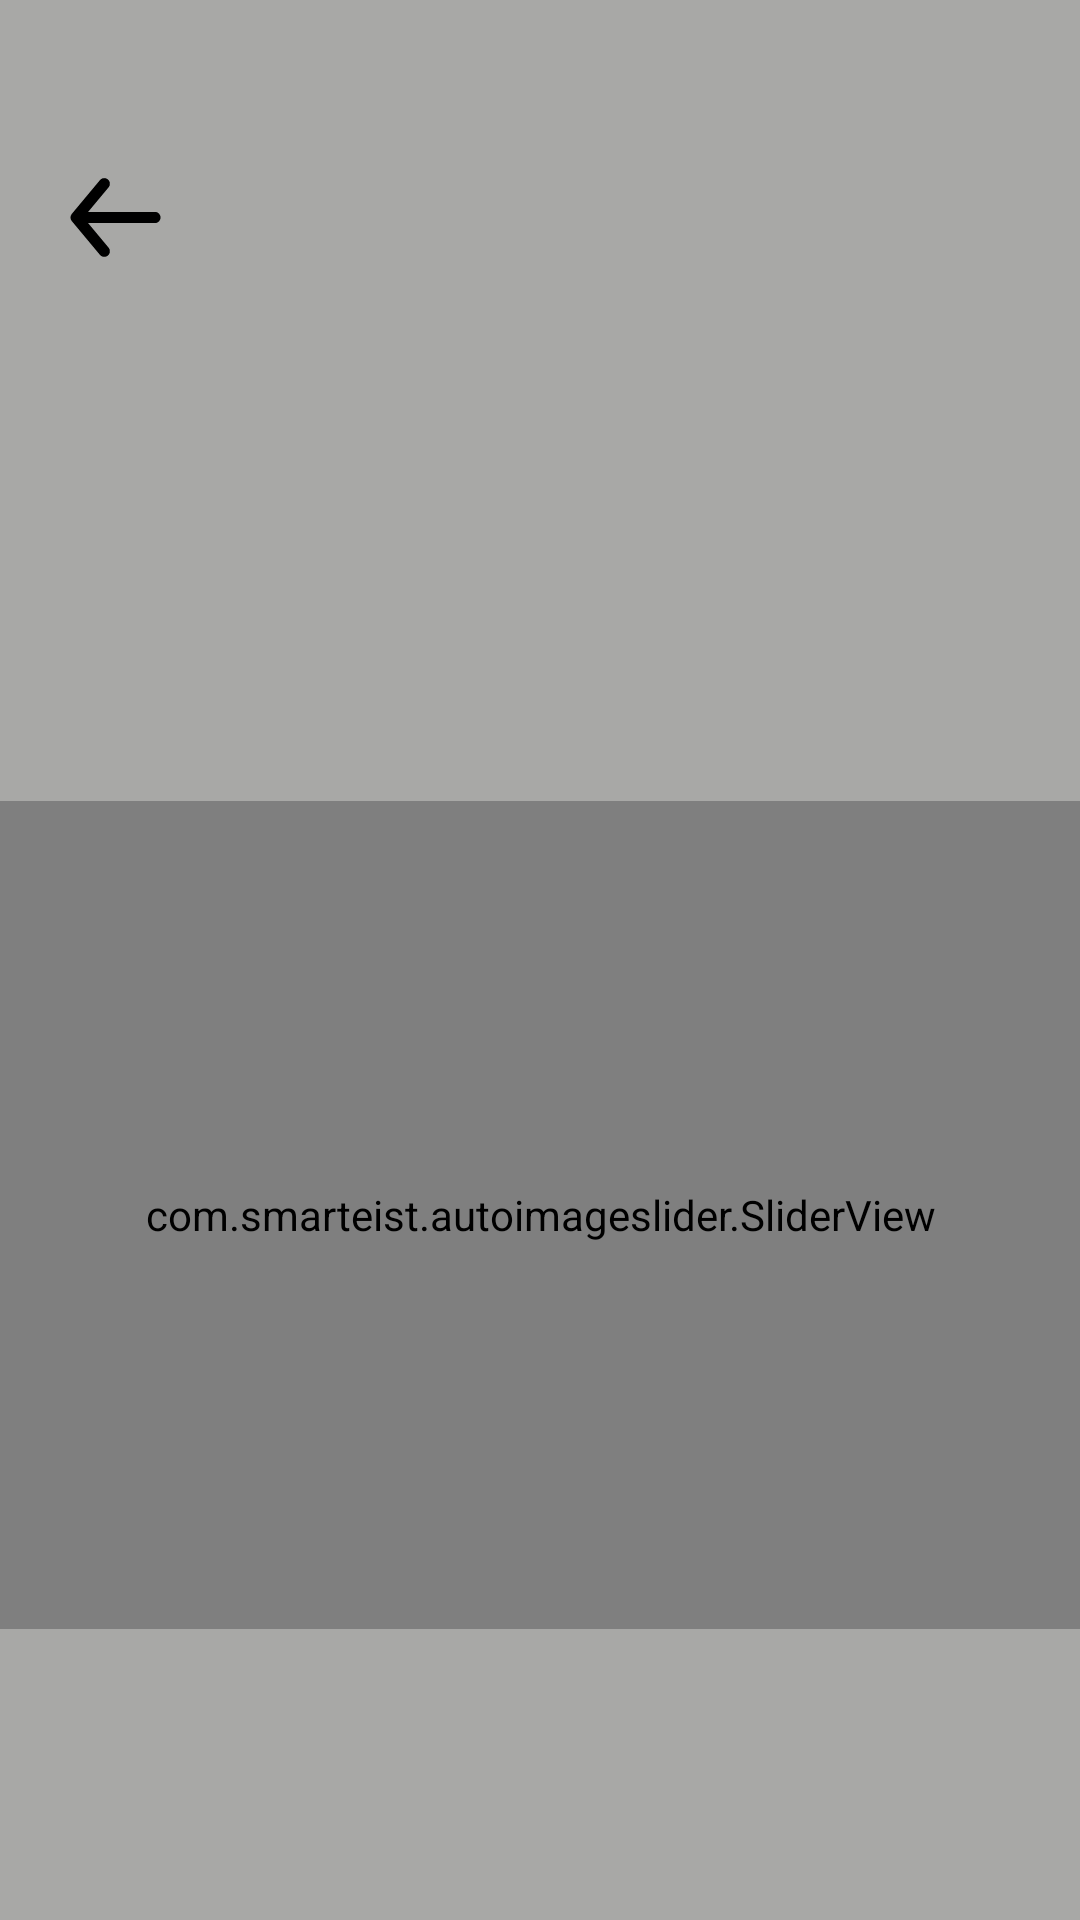

Named icons in this screenshot (1080×1920) and their bounding boxes, (x1, y1, x2, y2):
back: (70, 178, 161, 257)
